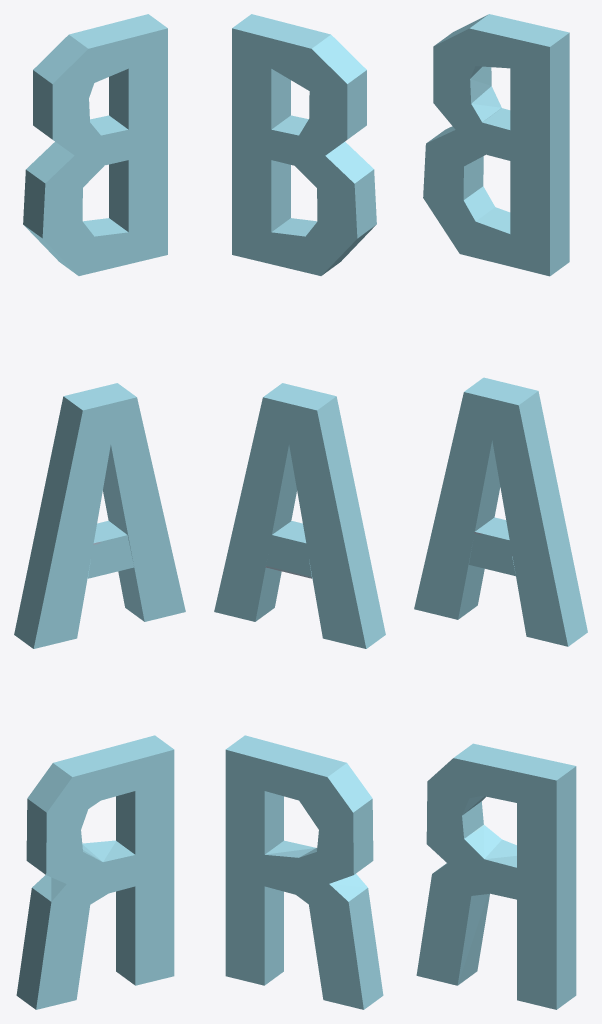
File: Props-TextBanner-Bar_BAR.fbx
3 views of the same model, side by side, from view 1: azimuth 30°, elevation 25°; view 2: azimuth 150°, elevation 25°; view 3: azimuth 330°, elevation 25° (orthographic).
Parts seen in each view (by area): view 1: Props-TextBanner-Bar_BAR; view 2: Props-TextBanner-Bar_BAR; view 3: Props-TextBanner-Bar_BAR.
Part boxes in pixels (bbox=[...]): Props-TextBanner-Bar_BAR: bbox=[14, 14, 185, 1009]; Props-TextBanner-Bar_BAR: bbox=[214, 14, 385, 1009]; Props-TextBanner-Bar_BAR: bbox=[414, 14, 587, 1009].
Size of the model in its own units: 24.78 by 148 by 5.51.
